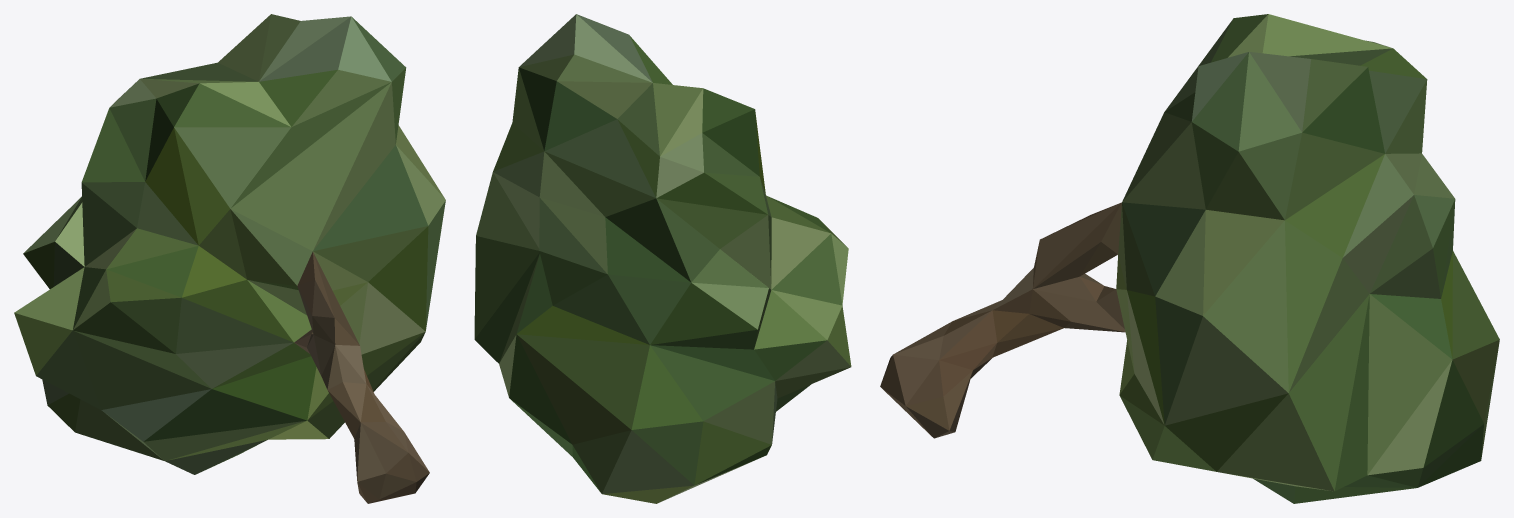
Rendered from Tree_A-CliffSide-DetailB.fbx.
The picture shows the model from 3 angles, left to right: view 1: azimuth 30°, elevation 25°; view 2: azimuth 150°, elevation 25°; view 3: azimuth 270°, elevation 25°; orthographic projection. The views are drawn at different scales.
Parts seen in each view (by area): view 1: Tree_A-CliffSide-DetailB; view 2: Tree_A-CliffSide-DetailB; view 3: Tree_A-CliffSide-DetailB.
Boxes of the visible parts, x1,y1,x2,y2 form: Tree_A-CliffSide-DetailB: (14, 14, 445, 503); Tree_A-CliffSide-DetailB: (474, 14, 851, 503); Tree_A-CliffSide-DetailB: (880, 14, 1499, 503).
Bounding box in the file's own units: 1584 × 1668 × 1830.
